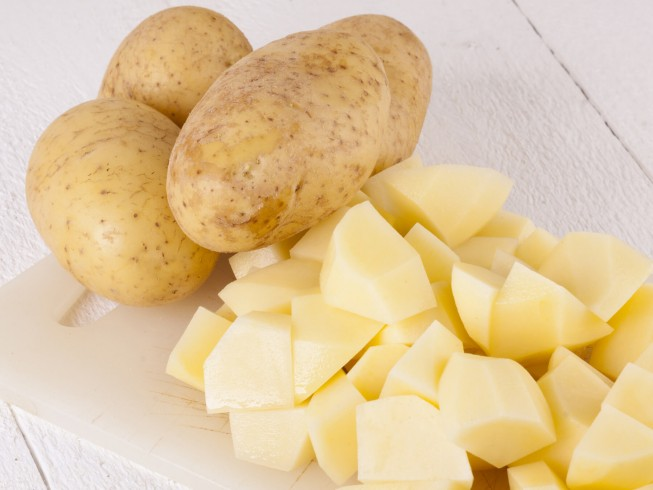boiled potatoes: (212, 246, 652, 478), (378, 165, 518, 244)
